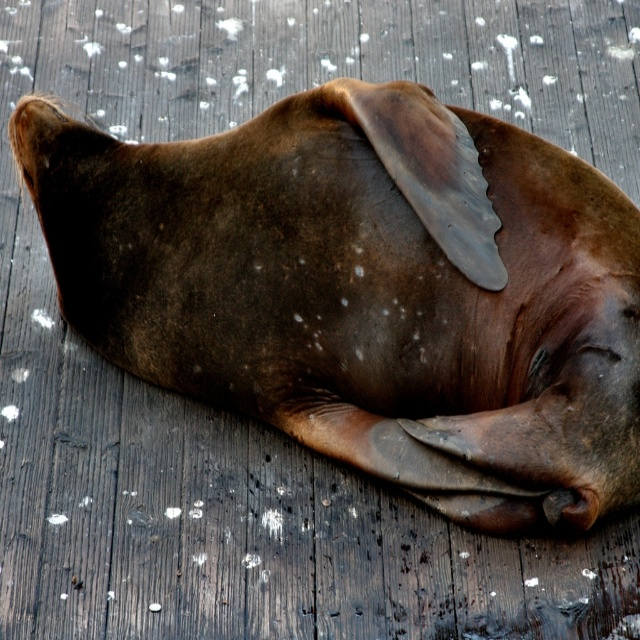Sea lion: (7, 79, 640, 539)
